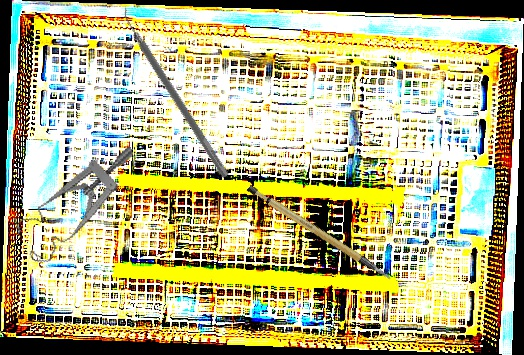Scalpel Handle: (244, 167, 393, 302)
Spatula Surgical: (114, 2, 237, 179)
Speculum: (2, 144, 159, 269)
